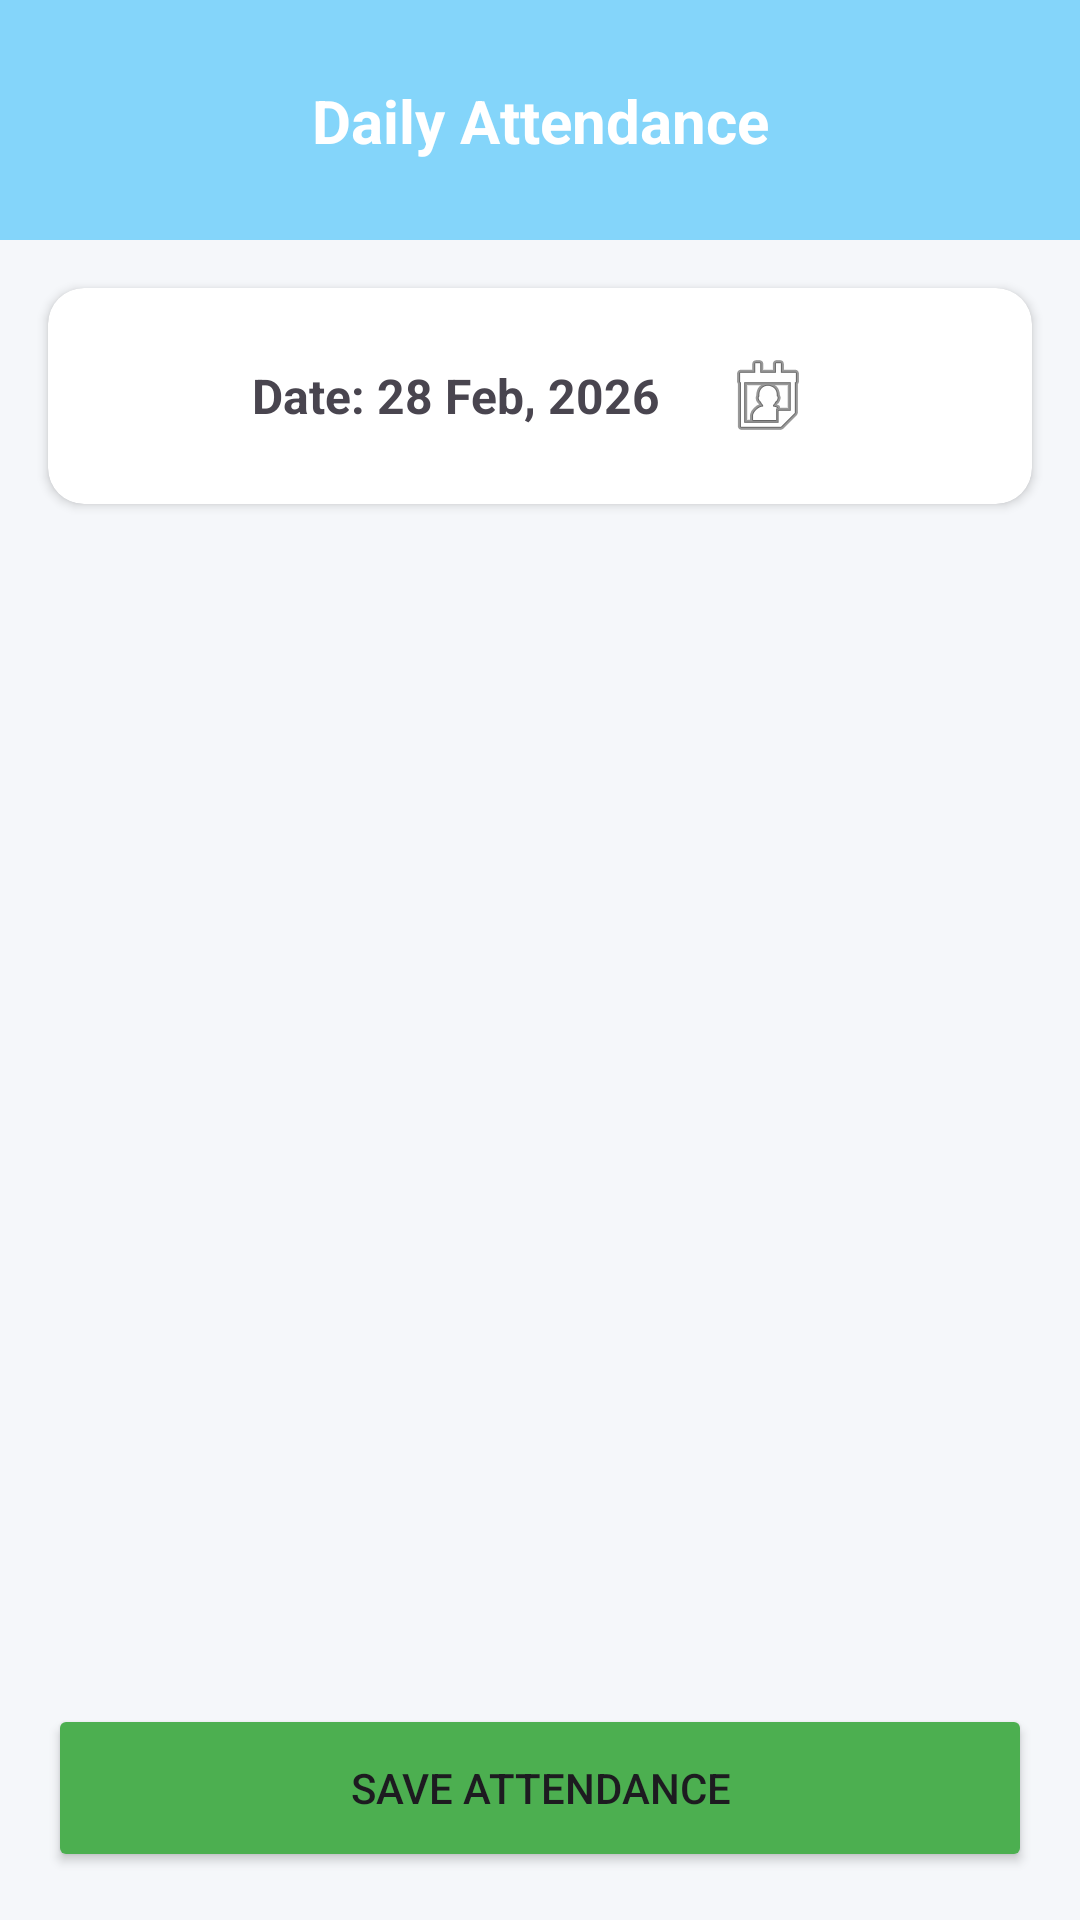

Where icons sit on this 1080px×1920px app screen, as (x1, y1, x2, y2):
calendar: (737, 360, 799, 430)
